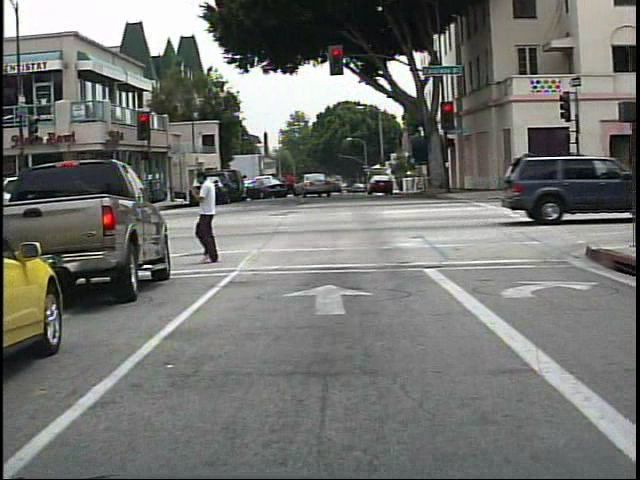person: (186, 168, 237, 266), (282, 163, 302, 207)
